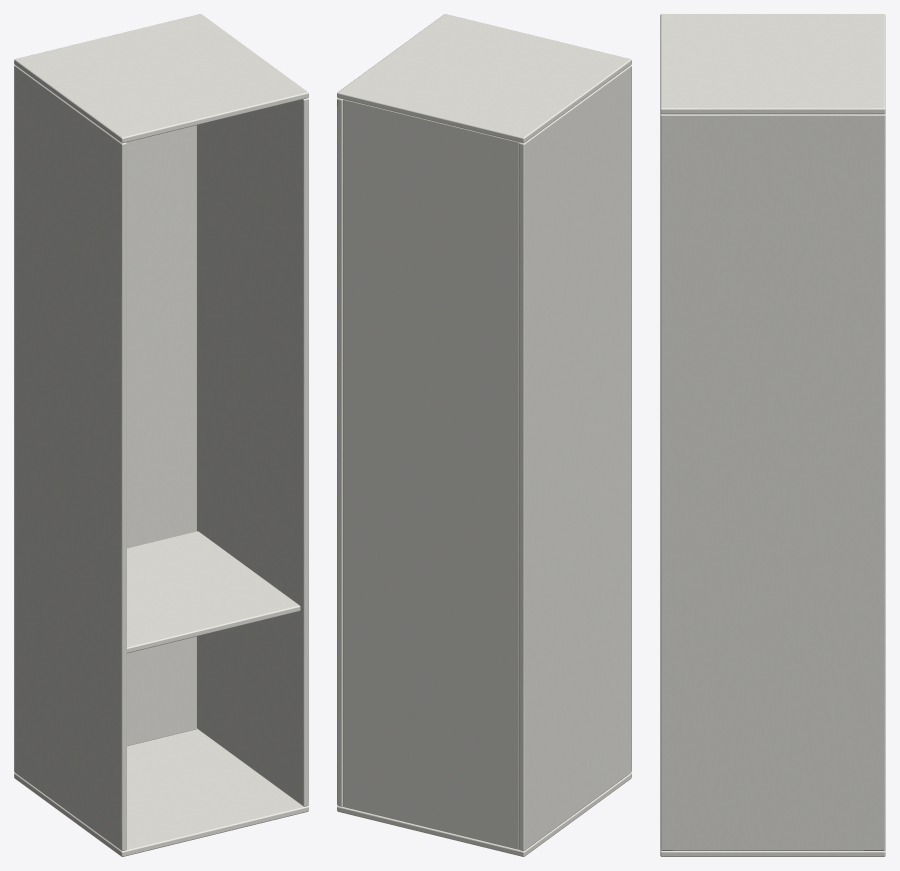
Rendered from metod-tall-mobile.glb.
The picture shows the model from 3 angles, left to right: view 1: azimuth 30°, elevation 25°; view 2: azimuth 150°, elevation 25°; view 3: azimuth 270°, elevation 25°; orthographic projection. The views are drawn at different scales.
Parts seen in each view (by area): view 1: METOD Tall appliance cabinet, 220 cm; view 2: METOD Tall appliance cabinet, 220 cm; view 3: METOD Tall appliance cabinet, 220 cm.
Part boxes in pixels (x1,y1,x2,y2): METOD Tall appliance cabinet, 220 cm: [14, 14, 308, 856]; METOD Tall appliance cabinet, 220 cm: [337, 14, 631, 856]; METOD Tall appliance cabinet, 220 cm: [660, 14, 885, 856].
Size of the model in its own units: 0.6 by 2.2 by 0.6.
Materials: 1 (1 with a texture image).
